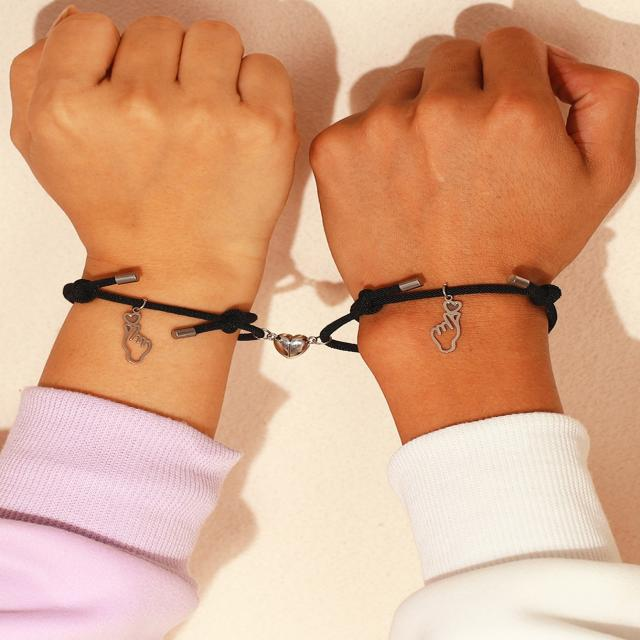bracelet: (16, 151, 640, 404)
